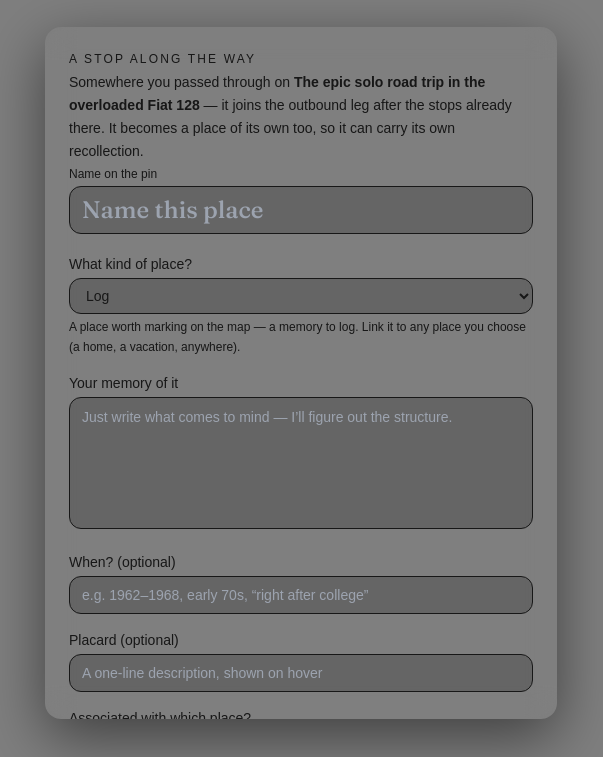
Test: PinModal states which mode it is in › stands the stop framing down when the user chooses Trip instead
Expected: the text "A stop along the way" is shown, [69, 52, 256, 66]
Select "Trip — somewhere I traveled" in the dropdown labelled "What kind of place?" at (301, 296), box [69, 278, 533, 314]
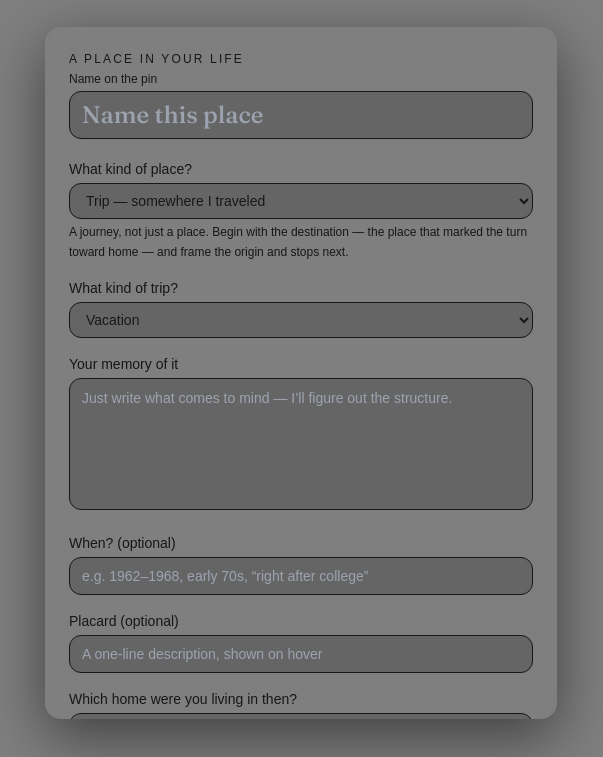
Expected: the text "A stop along the way" is gone
